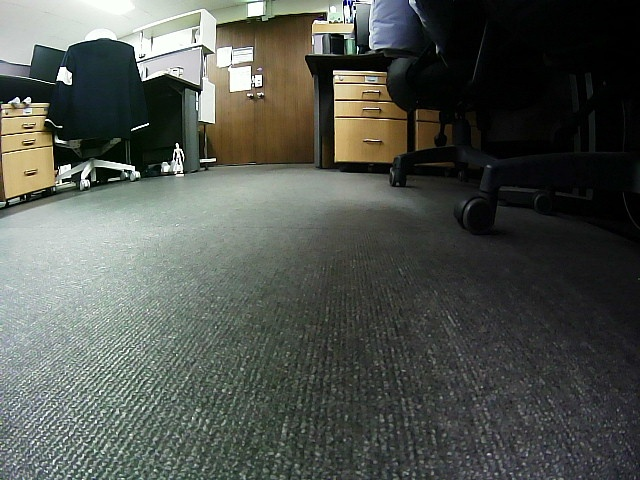person: (173, 142, 184, 174)
